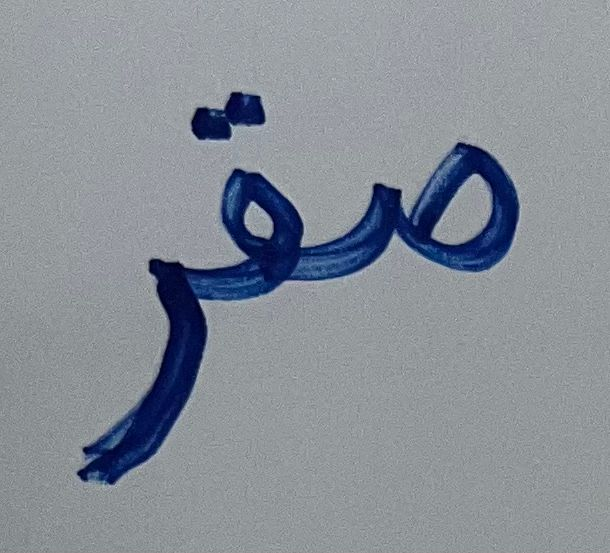qaf: (178, 70, 320, 297)
reh: (44, 303, 223, 506)
sad: (336, 103, 541, 315)
